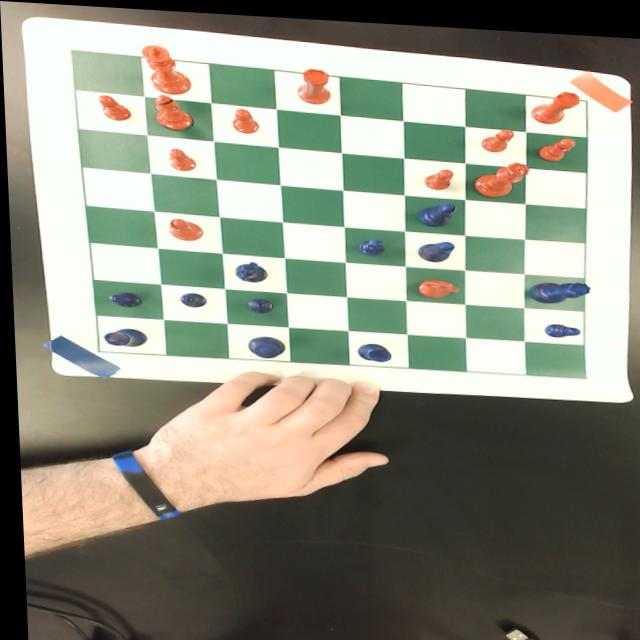B: (415, 195, 456, 222), (415, 233, 454, 257)
K: (243, 331, 283, 356)
N: (230, 255, 270, 281)
P: (541, 315, 580, 332), (104, 288, 140, 306), (354, 233, 385, 251), (242, 293, 272, 310), (177, 289, 205, 304)
Q: (528, 271, 590, 298)
R: (101, 325, 148, 346), (354, 337, 389, 357)
b: (150, 91, 194, 129), (165, 215, 201, 239)
cb: (72, 48, 587, 371)
k: (139, 42, 191, 92)
n: (415, 271, 459, 293)
p: (537, 129, 575, 155), (479, 119, 514, 147), (96, 93, 131, 119), (227, 104, 260, 130), (422, 161, 454, 185), (165, 145, 196, 168)
q: (471, 153, 530, 192)
r: (530, 82, 581, 118), (297, 63, 332, 100)
